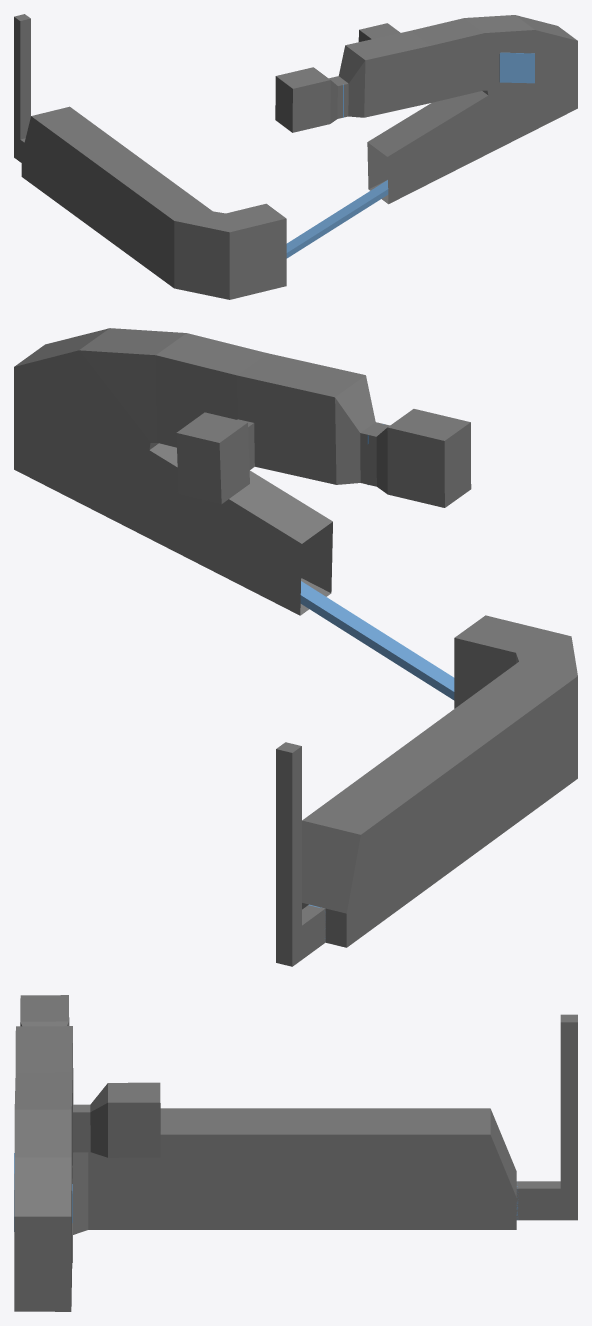
File: level 0 - tutorial.fbx
3 views of the same model, one above another, from view 1: azimuth 30°, elevation 25°; view 2: azimuth 150°, elevation 25°; view 3: azimuth 270°, elevation 25° (orthographic). The views are drawn at different scales.
Visible parts, largest first — view 1: level, elevator space, Ramp, wallrun panel 2; view 2: level, elevator space, Ramp; view 3: level, elevator space.
Part boxes in pixels (left/top/right/bottom): level: left=20, top=15, right=577, bottom=299; elevator space: left=14, top=14, right=30, bottom=161; Ramp: left=286, top=180, right=388, bottom=258; wallrun panel 2: left=499, top=52, right=534, bottom=83; level: left=14, top=328, right=577, bottom=959; elevator space: left=276, top=742, right=301, bottom=966; Ramp: left=300, top=581, right=454, bottom=700; level: left=14, top=995, right=560, bottom=1311; elevator space: left=560, top=1014, right=577, bottom=1220.
Bounding box in the file's own units: 7012 × 3669 × 6450.
